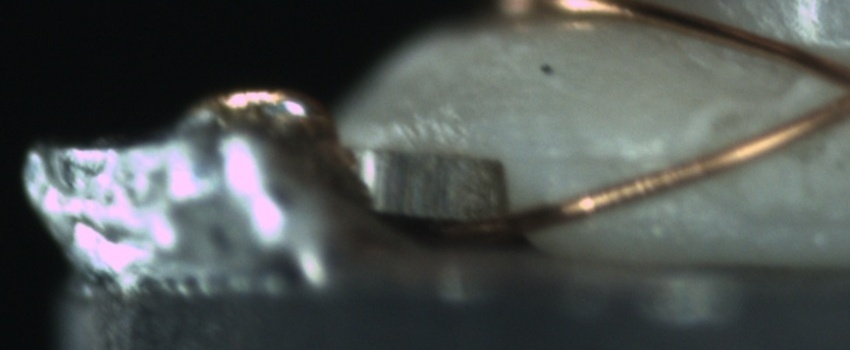CL: (805, 49, 850, 126)
DL: (536, 141, 674, 181)
TE: (188, 83, 323, 140)
